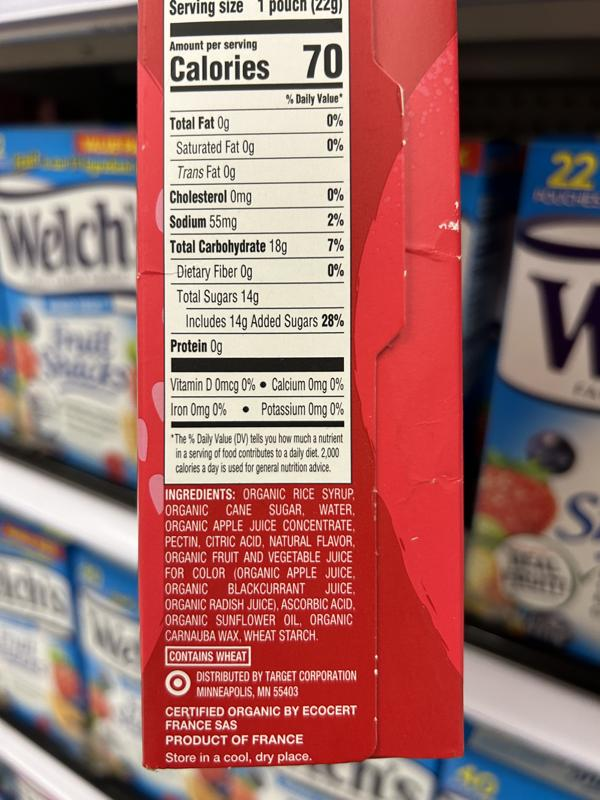ingredients: (162, 487, 355, 643)
